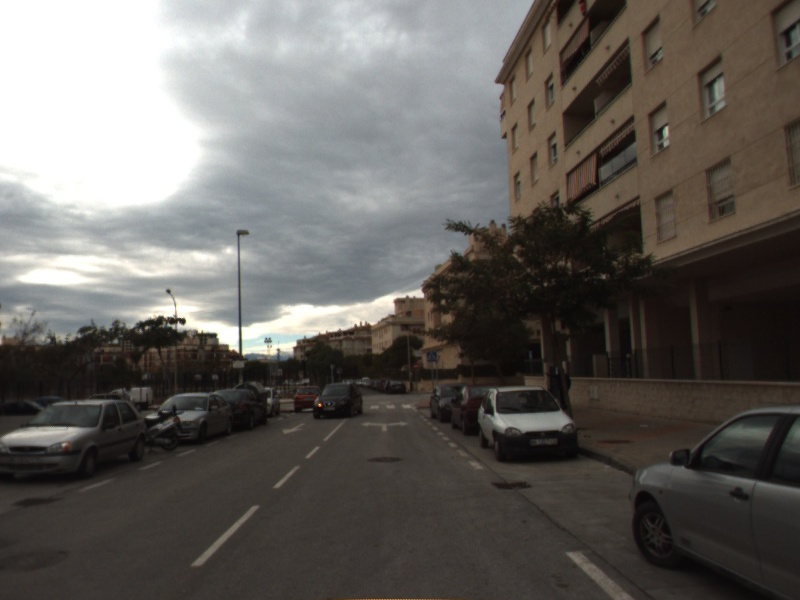LEFT_RIGHT: (359, 419, 411, 433)
